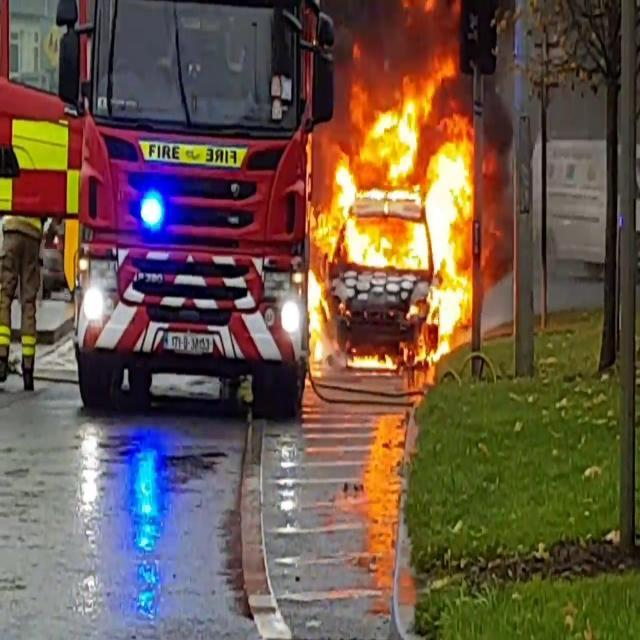Fire: (306, 44, 482, 366), (346, 344, 399, 376)
